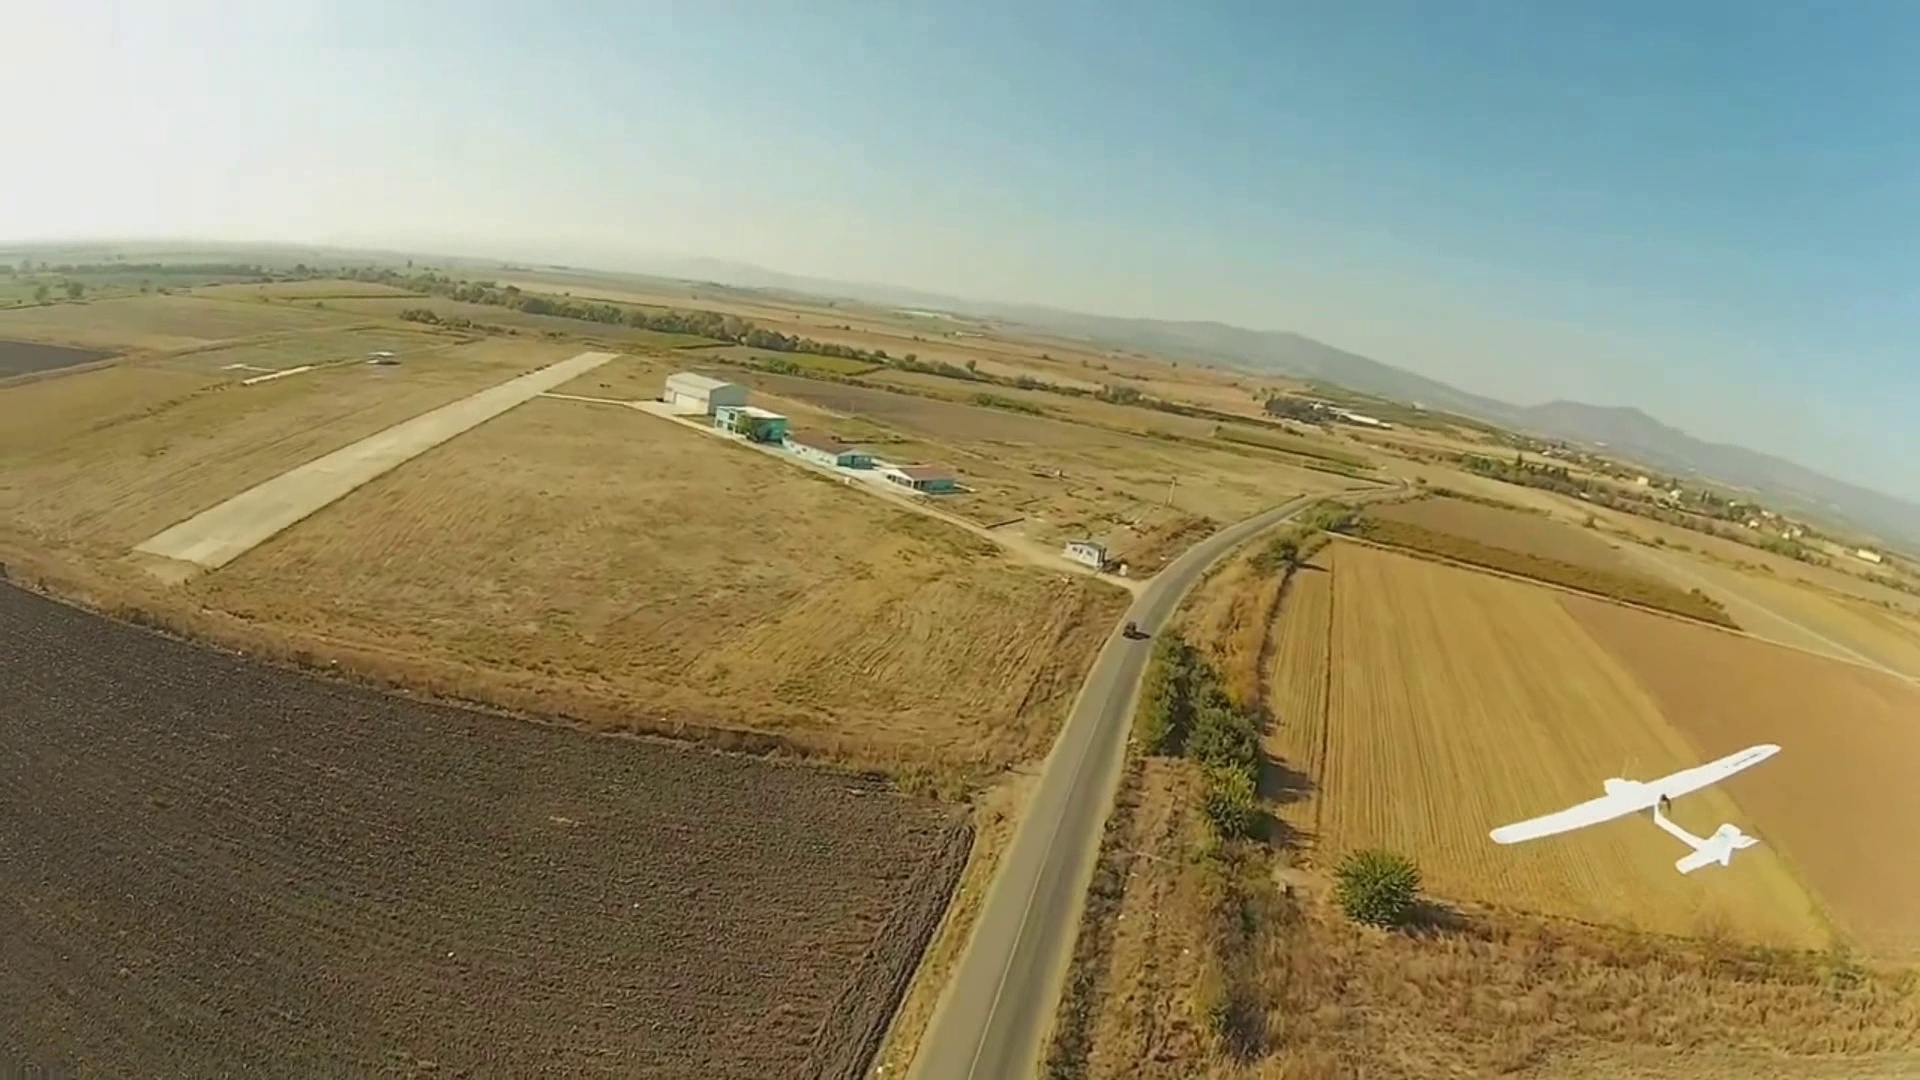airplane: (1487, 741, 1783, 869)
